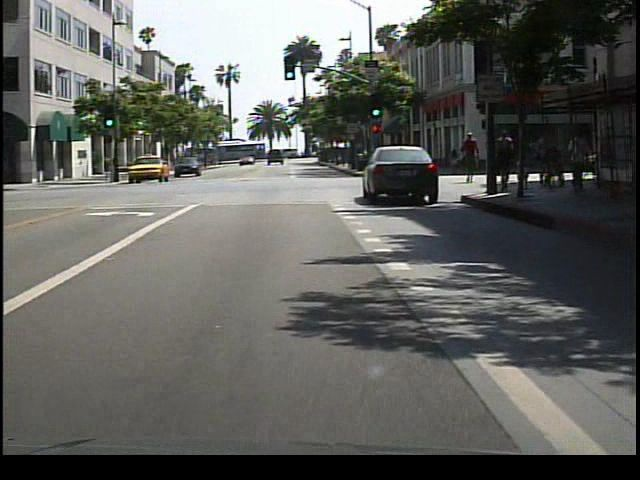person: (461, 130, 485, 189)
